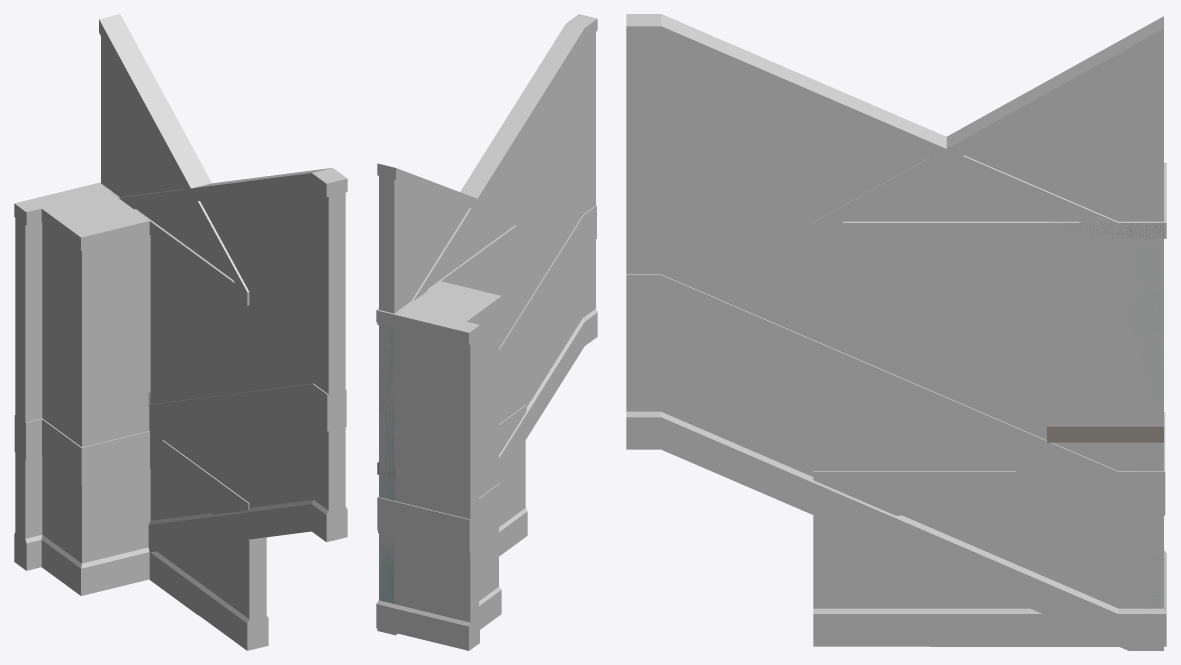
Rendered from SM_WallPack_V2.fbx.
The picture shows the model from 3 angles, left to right: view 1: azimuth 30°, elevation 25°; view 2: azimuth 150°, elevation 25°; view 3: azimuth 270°, elevation 25°; orthographic projection. The views are drawn at different scales.
Visible parts, largest first — view 1: Wall_3x4_V2.001, Wall_3x4R_F2_V2, Wall_Stolb_F2_V2, Wall_Stolb_V2, WallSKOS_3x4_V2, Wall_L1x4_F2_V2, Wall_3x4_F2_V2, Wall_L1x4_V2, Wall_2x4_V2, Wall_Door_V2, Wall_Win2x4_V2, Wall_2x4_F2_V2; view 2: Wall_3x4_V2.001, Wall_L1x4_F2_V2, Wall_3x4R_F2_V2, Wall_Stolb_V2, Wall_L1x4_V2, WallSKOS_3x4_V2, Wall_Stolb_F2_V2, Wall_3x4_F2_V2, Wall_1x4_F2_V2, Wall_Door_V2, Wall_1x2_F2_V2; view 3: Wall_3x4_V2.001, Wall_3x4R_F2_V2, WallSKOS_3x4_V2, Wall_Stolb_V2, Wall_Door_V2, Wall_Stolb_F2_V2, Wall_2x4_F2_V2, Wall_2x4_V2, Wall_Win2x4_V2, Wall_3x4_F2_V2, Wall_L1x4_F2_V2, Wall_1x4_V2 (+3 smaller).
Part boxes in pixels (left/top/right/bottom): Wall_3x4_V2.001: left=119, top=168, right=347, bottom=552; Wall_3x4R_F2_V2: left=99, top=14, right=266, bottom=650; Wall_Stolb_F2_V2: left=41, top=192, right=150, bottom=563; Wall_Stolb_V2: left=41, top=224, right=150, bottom=595; WallSKOS_3x4_V2: left=99, top=183, right=268, bottom=650; Wall_L1x4_F2_V2: left=14, top=182, right=160, bottom=569; Wall_3x4_F2_V2: left=150, top=244, right=249, bottom=617; Wall_L1x4_V2: left=14, top=220, right=160, bottom=584; Wall_2x4_V2: left=149, top=319, right=199, bottom=614; Wall_Door_V2: left=158, top=228, right=268, bottom=650; Wall_Win2x4_V2: left=149, top=231, right=199, bottom=614; Wall_2x4_F2_V2: left=101, top=184, right=199, bottom=269; Wall_3x4_V2.001: left=377, top=14, right=597, bottom=635; Wall_L1x4_F2_V2: left=376, top=276, right=479, bottom=642; Wall_3x4R_F2_V2: left=377, top=163, right=527, bottom=526; Wall_Stolb_V2: left=376, top=311, right=501, bottom=637; Wall_L1x4_V2: left=376, top=323, right=479, bottom=650; WallSKOS_3x4_V2: left=378, top=218, right=527, bottom=565; Wall_Stolb_F2_V2: left=376, top=281, right=501, bottom=569; Wall_3x4_F2_V2: left=380, top=234, right=525, bottom=525; Wall_1x4_F2_V2: left=377, top=308, right=402, bottom=602; Wall_Door_V2: left=379, top=219, right=527, bottom=557; Wall_1x2_F2_V2: left=377, top=461, right=395, bottom=603; Wall_3x4_V2.001: left=626, top=14, right=1163, bottom=650; Wall_3x4R_F2_V2: left=813, top=16, right=1163, bottom=608; WallSKOS_3x4_V2: left=813, top=221, right=1163, bottom=646; Wall_Stolb_V2: left=1044, top=239, right=1166, bottom=646; Wall_Door_V2: left=813, top=222, right=1163, bottom=646; Wall_Stolb_F2_V2: left=1044, top=223, right=1166, bottom=605; Wall_2x4_F2_V2: left=930, top=221, right=1163, bottom=608; Wall_2x4_V2: left=930, top=239, right=1163, bottom=646; Wall_Win2x4_V2: left=930, top=223, right=1163, bottom=646; Wall_3x4_F2_V2: left=844, top=239, right=1163, bottom=608; Wall_L1x4_F2_V2: left=1023, top=162, right=1166, bottom=608; Wall_1x4_V2: left=1048, top=240, right=1163, bottom=646.
Size of the model in its own units: 122 by 590 by 462.
